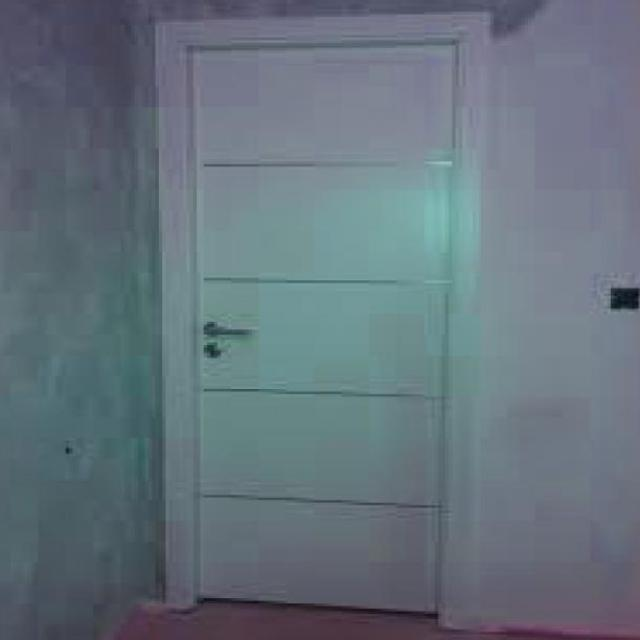door: (180, 28, 461, 617)
